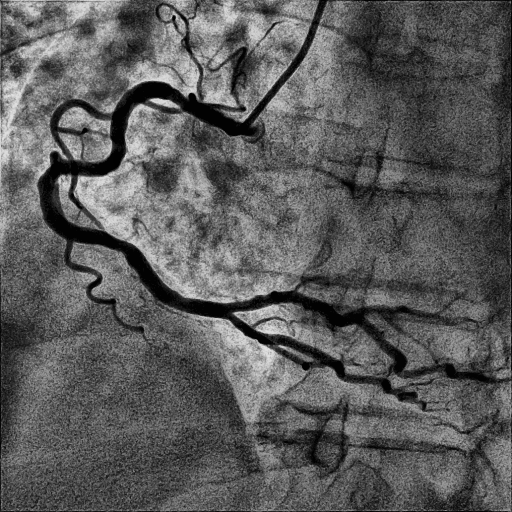pborca: (230, 291, 497, 384)
pda: (228, 314, 418, 396)
rca: (37, 81, 240, 319)
